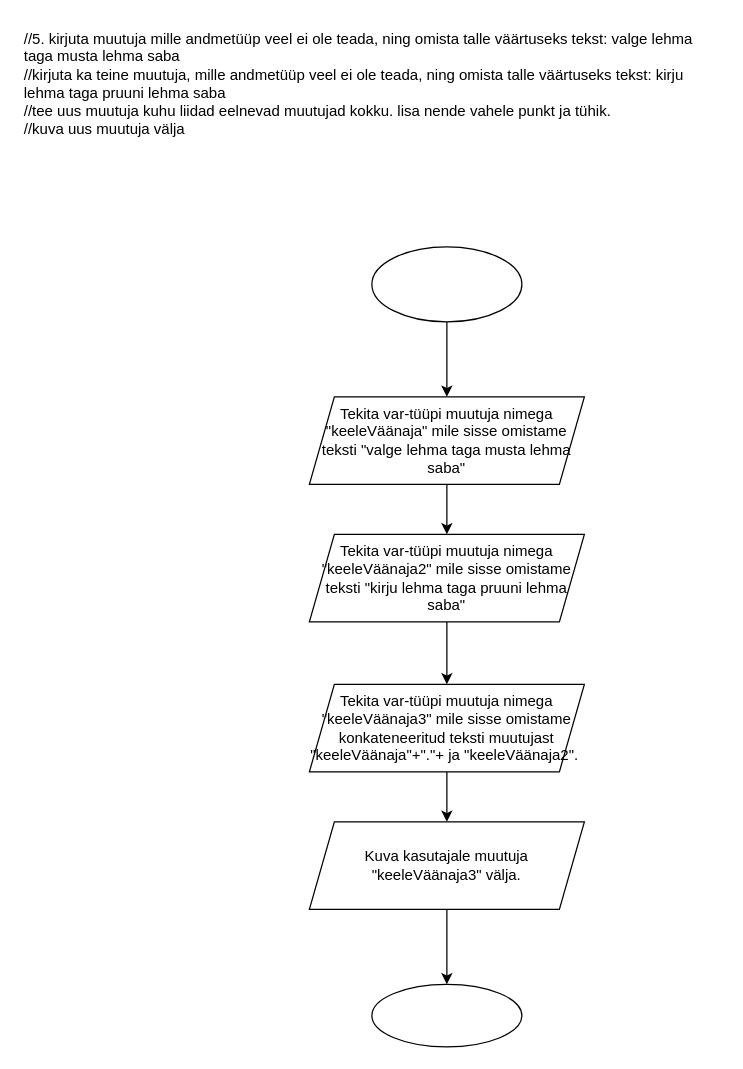
This 743x1069 diagram has some shape labels left out. Here are the shapes that lost their labels. From the top down, the box of each, then its label:
(371, 246, 522, 322): Algus
(371, 983, 522, 1047): Lõpp
